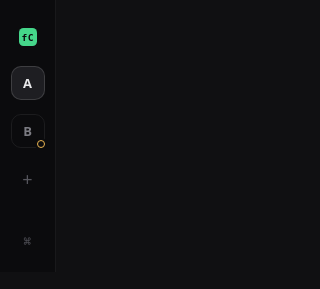
it: Nav rail → flyout › reopens a collapsed flyout when a project tile is clicked
Click the button named "Beta". click: (28, 131)
box: [10,114,44,148]
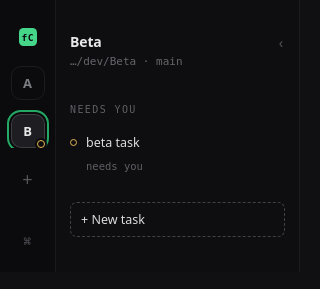
Check: the text "Beta" is shown, box [70,32,102,52]
Check: the text "beta task" is shown, box [86,134,143,152]
